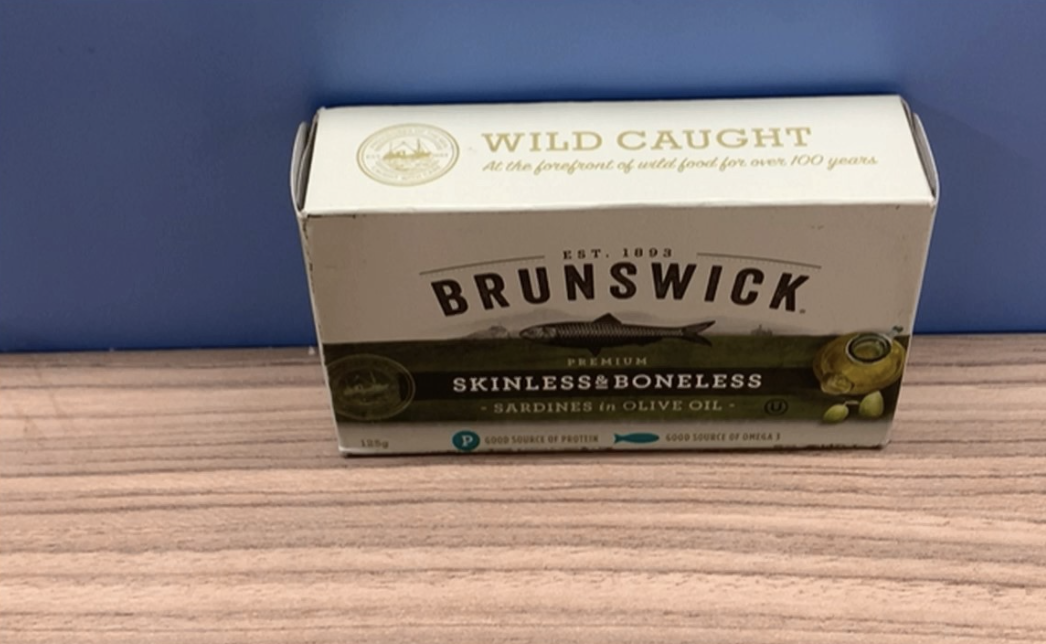sardines_100g-199g: (321, 127, 902, 444)
